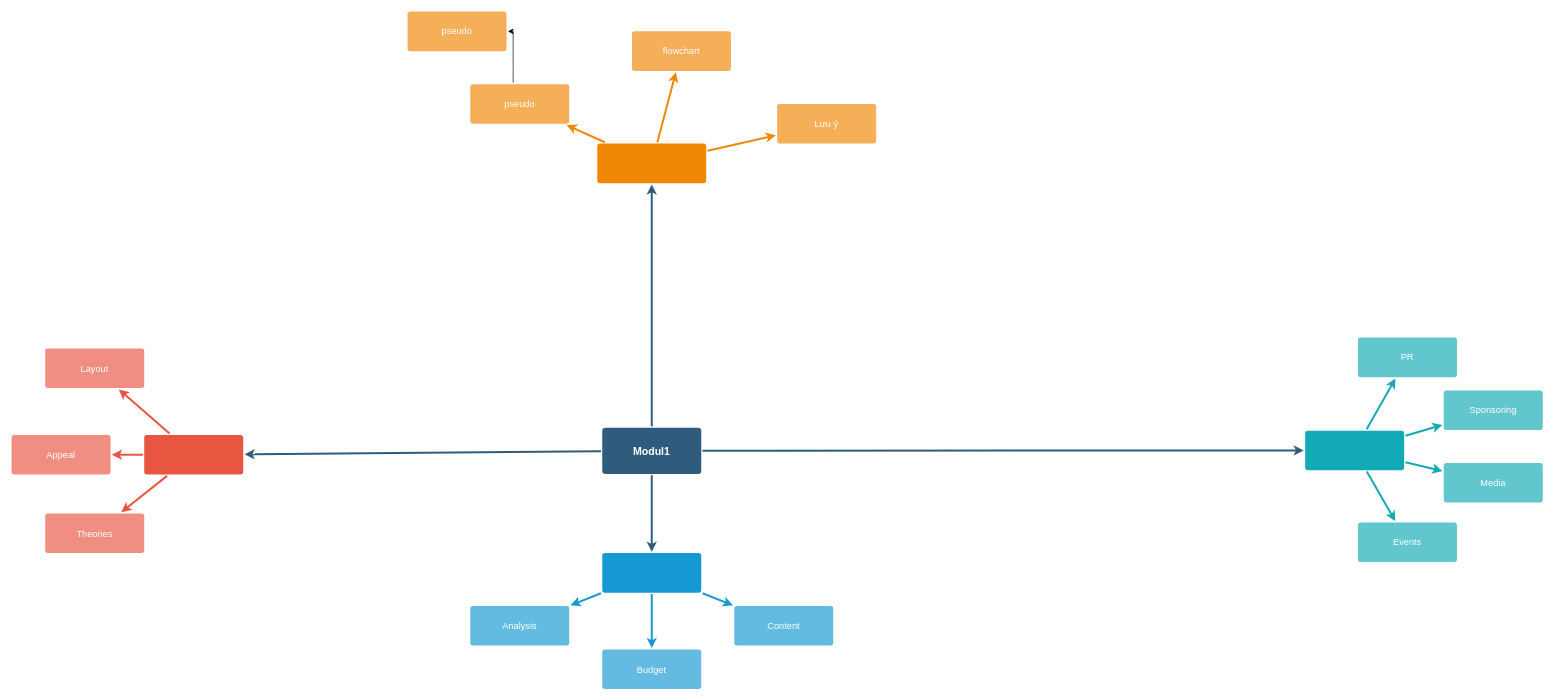
This 1554x700 diagram has some shape labels left out. Each missing label, with the box of its shape:
Communication: (1305, 430, 1404, 470)
Embassy: (144, 435, 243, 474)
Organization: (602, 553, 701, 592)
ss3_pseudo_flowchart: (597, 143, 706, 183)
